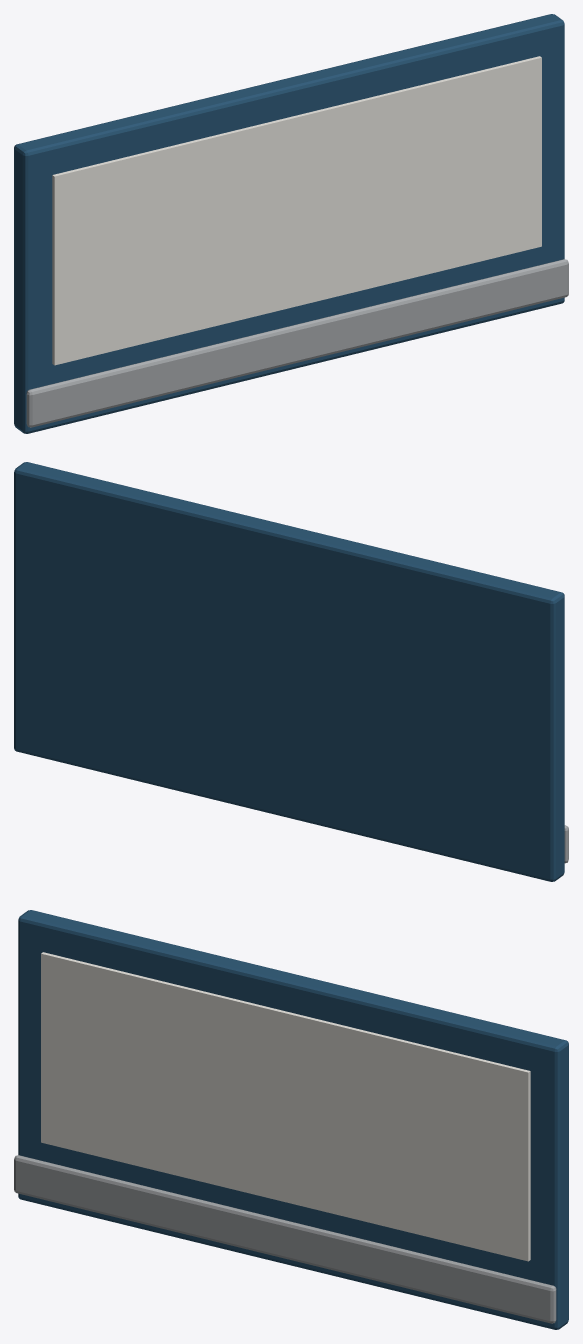
The model's file is PROP_Sign_Room.glb.
3 renders of one model, top to bottom at view 1: azimuth 30°, elevation 25°; view 2: azimuth 150°, elevation 25°; view 3: azimuth 330°, elevation 25°, orthographic.
Visible parts, largest first — view 1: PROP_Sign_Room_Face, PROP_Sign_Room_Mesh; view 2: PROP_Sign_Room_Mesh; view 3: PROP_Sign_Room_Face, PROP_Sign_Room_Mesh.
Boxes of the visible parts, x1,y1,x2,y2 form: PROP_Sign_Room_Face: [52, 56, 541, 365]; PROP_Sign_Room_Mesh: [14, 14, 568, 433]; PROP_Sign_Room_Mesh: [14, 462, 568, 881]; PROP_Sign_Room_Face: [41, 952, 530, 1261]; PROP_Sign_Room_Mesh: [14, 910, 568, 1329].
Bounding box in the file's own units: 0.3 × 0.15 × 0.016.
